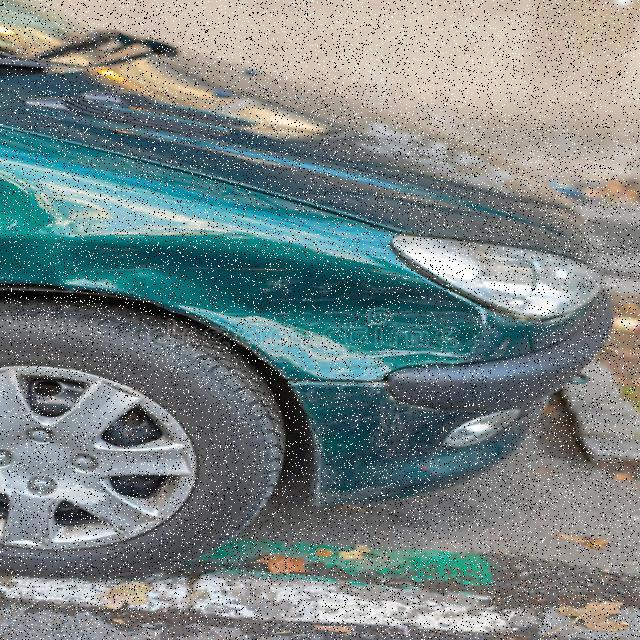car damage: (0, 223, 475, 386)
